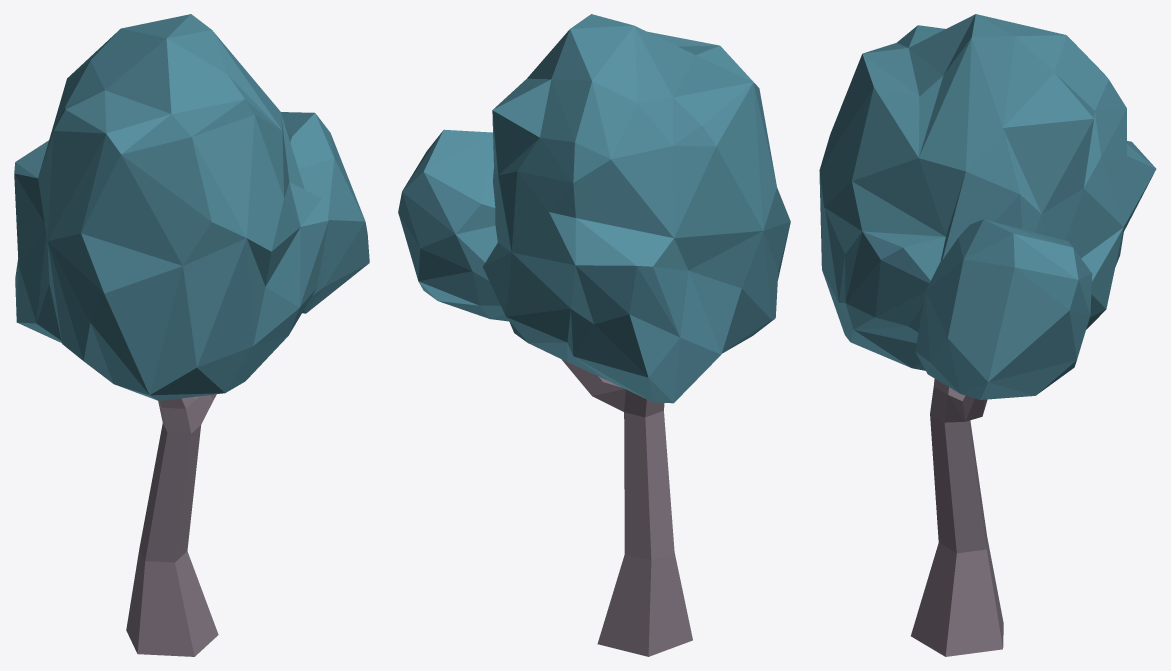
The model's file is SM_Generic_Tree_04.fbx.
The picture shows the model from 3 angles, left to right: view 1: azimuth 30°, elevation 25°; view 2: azimuth 150°, elevation 25°; view 3: azimuth 270°, elevation 25°; orthographic projection. The views are drawn at different scales.
Parts seen in each view (by area): view 1: SM_Generic_Tree_04; view 2: SM_Generic_Tree_04; view 3: SM_Generic_Tree_04.
Boxes of the visible parts, <box> form: SM_Generic_Tree_04: <box>14,14,369,656</box>; SM_Generic_Tree_04: <box>398,14,790,656</box>; SM_Generic_Tree_04: <box>819,14,1156,656</box>.
Size of the model in its own units: 1.82 by 3.22 by 1.54.
1 material, 1 textured.
